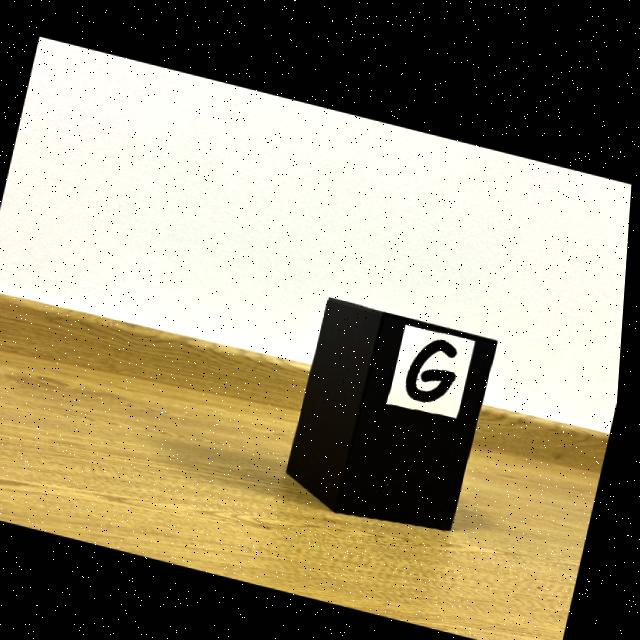G: (410, 332, 461, 394)
